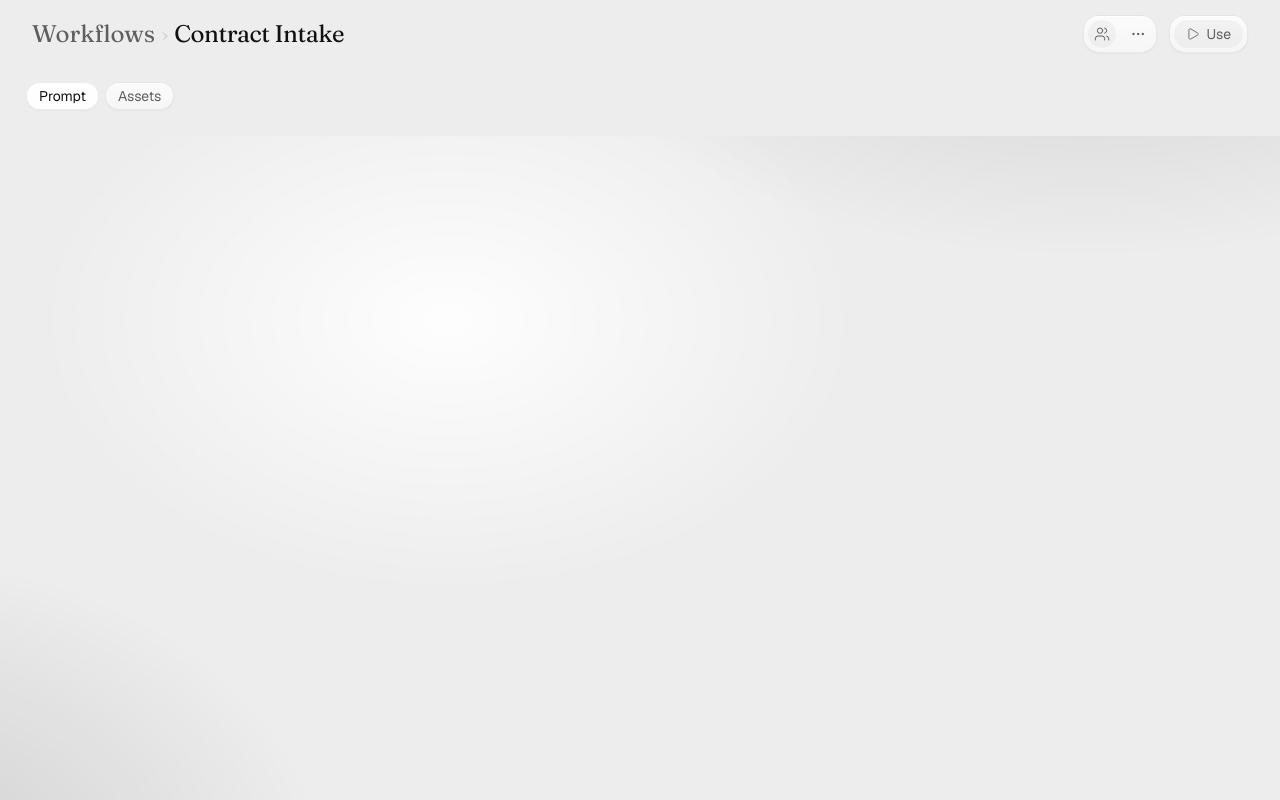
WorkflowDetailPage access mutations › says the list is stale when the re-read fails
Click the button named "Open workflow access".
click(1102, 34)  # box [1088,20,1116,48]
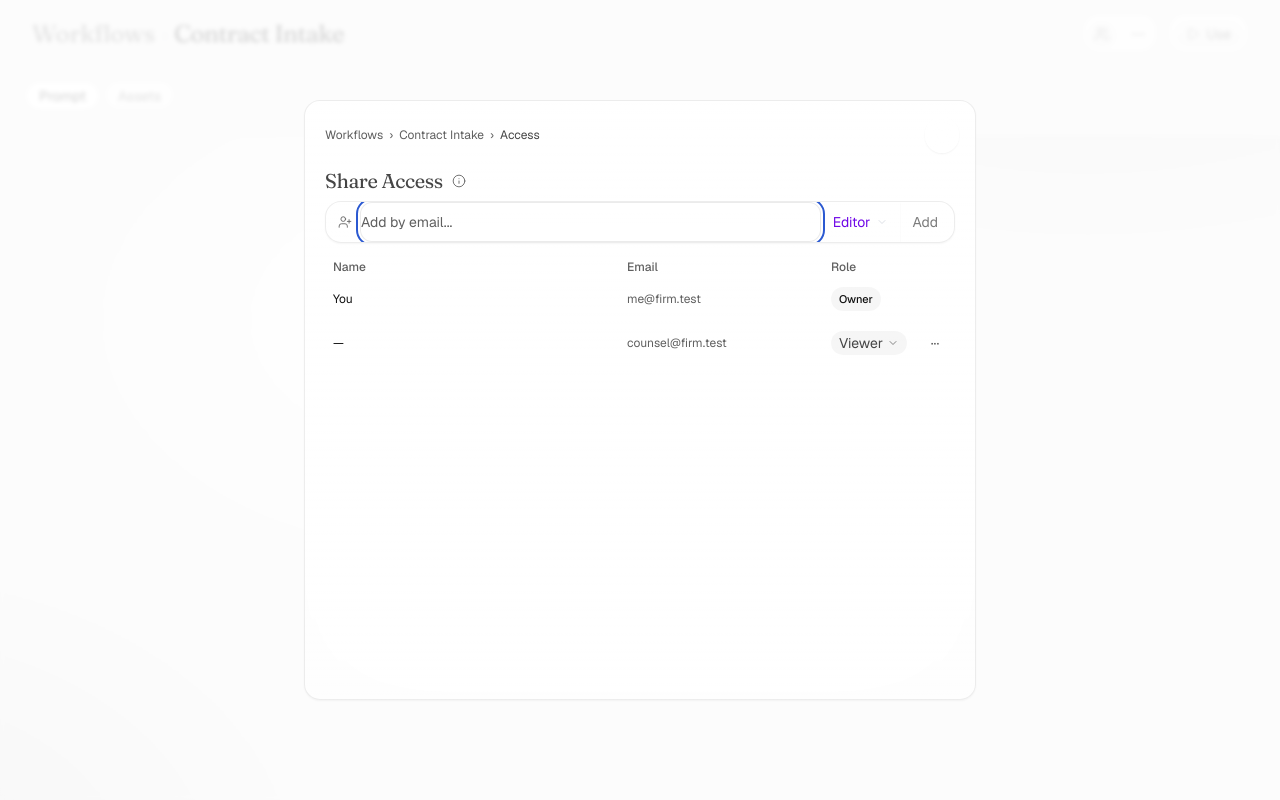
Click the button with aria-label "Role for counsel@firm.test".
click(869, 343)  # box [831,331,907,355]
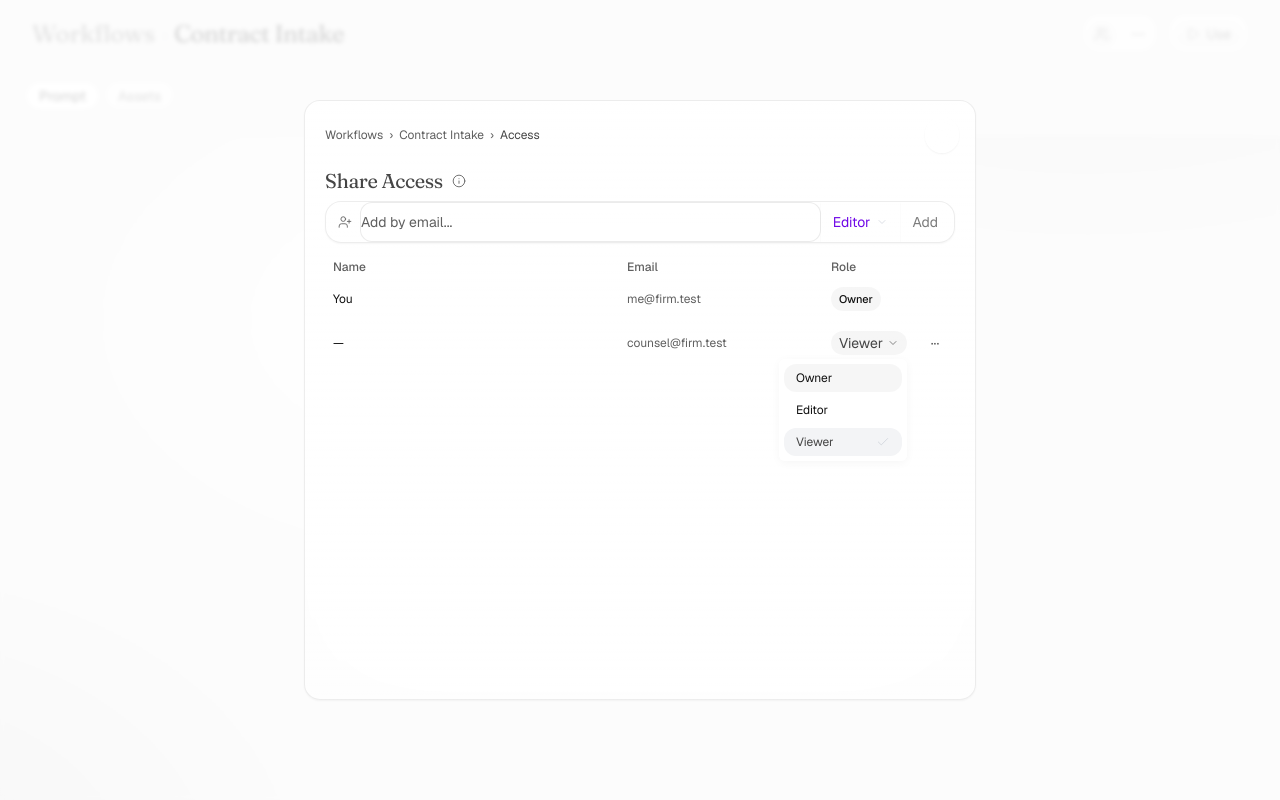
Click the menu item "Owner".
click(843, 378)  # box [784,364,902,392]
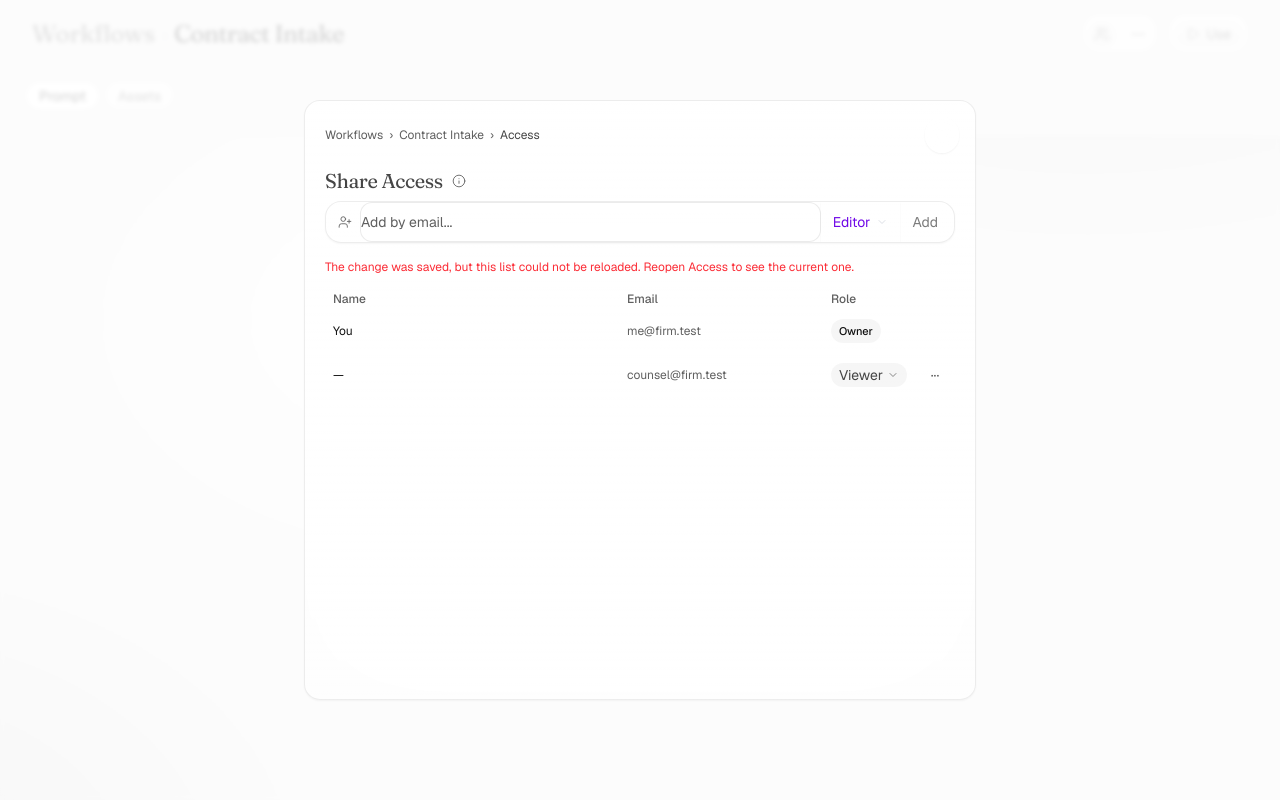
Result: the text "The change was saved, but this list could not be reloaded. Reopen Access to see the current one." is shown at [325,259,854,275]
